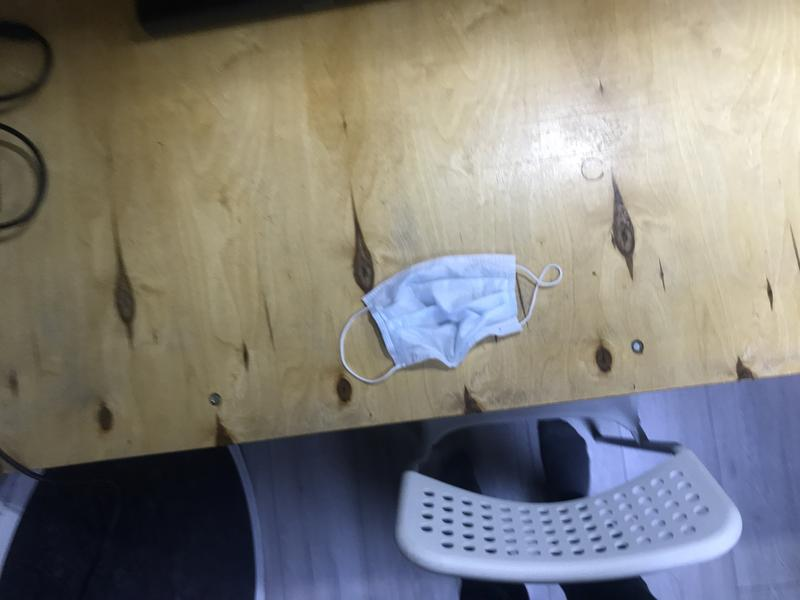medical_mask: (338, 254, 563, 386)
